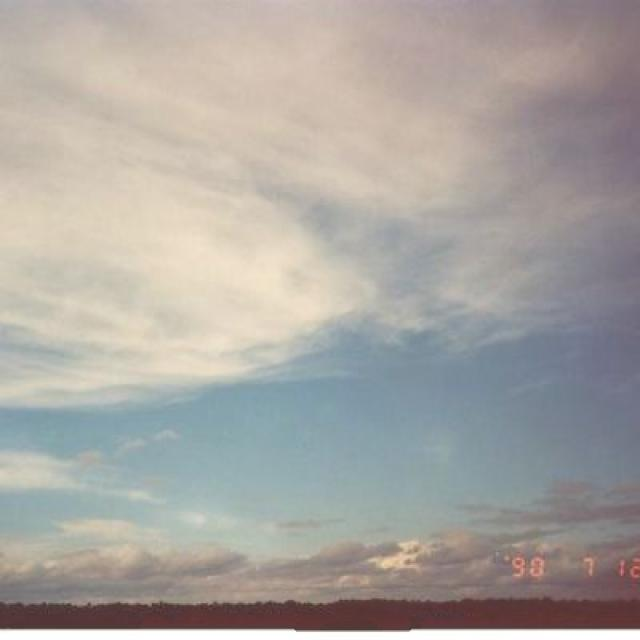Ci: (1, 51, 640, 466)
